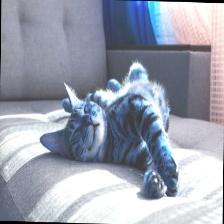kedo: (41, 63, 180, 197)
